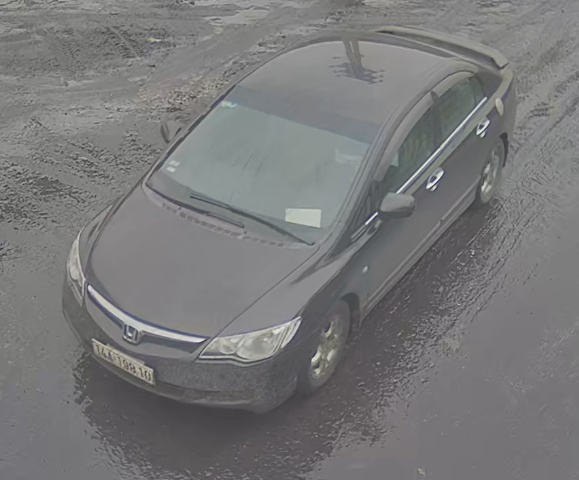vehicle plate: (85, 337, 161, 387)
